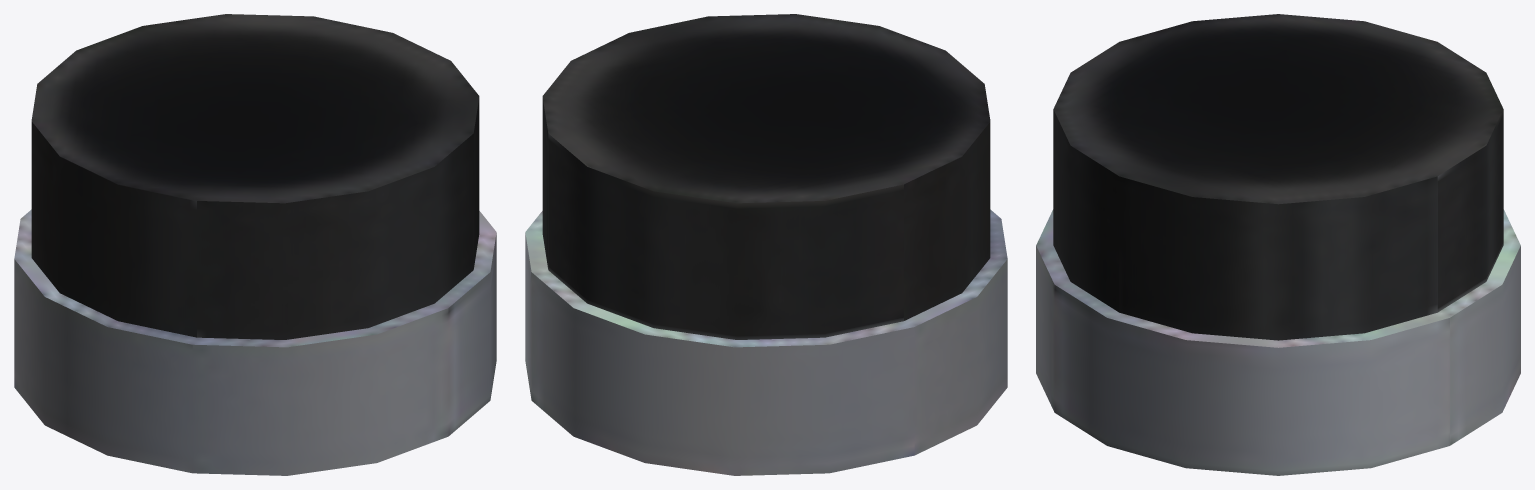
File: revan_pommel.obj
The picture shows the model from 3 angles, left to right: view 1: azimuth 30°, elevation 25°; view 2: azimuth 150°, elevation 25°; view 3: azimuth 270°, elevation 25°; orthographic projection.
Visible parts, largest first — view 1: pommel; view 2: pommel; view 3: pommel.
Boxes of the visible parts, box(x1,y1,x2,y2) form: pommel: box(14, 14, 496, 475); pommel: box(525, 14, 1007, 475); pommel: box(1036, 14, 1520, 475).
Bounding box in the file's own units: 0.0632 × 0.0419 × 0.0632.
